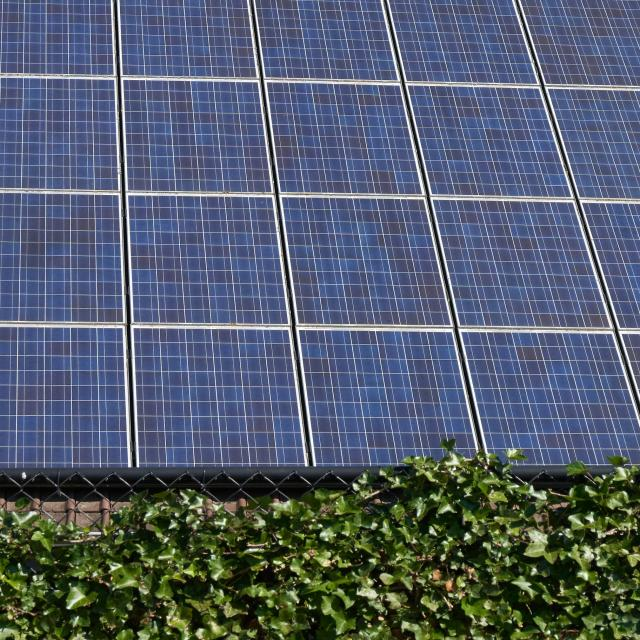clean-solar-panel: (1, 0, 640, 468)
